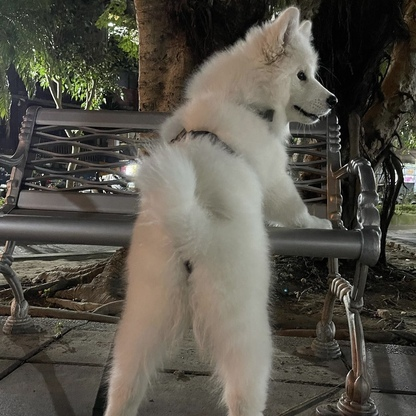samoyed: (92, 1, 346, 416)
